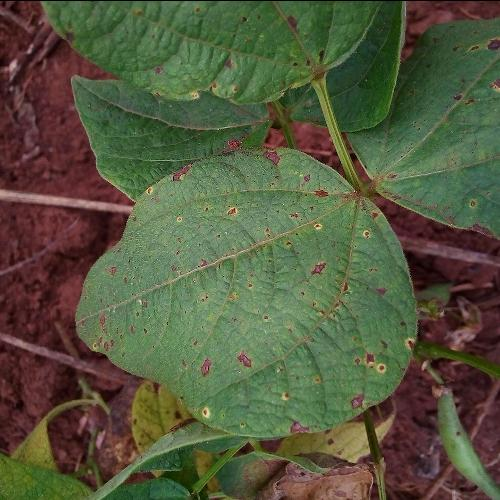hawar: (137, 126, 292, 224), (280, 238, 356, 333), (342, 301, 403, 419), (187, 331, 267, 388), (80, 295, 140, 366), (266, 391, 329, 451)
